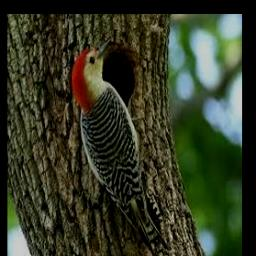Woodpecker: (72, 39, 172, 256)
